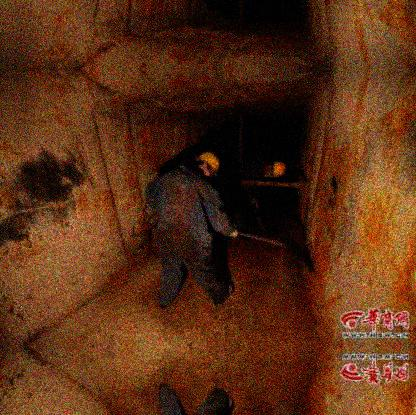helmet: (195, 151, 220, 180), (264, 161, 287, 179)
